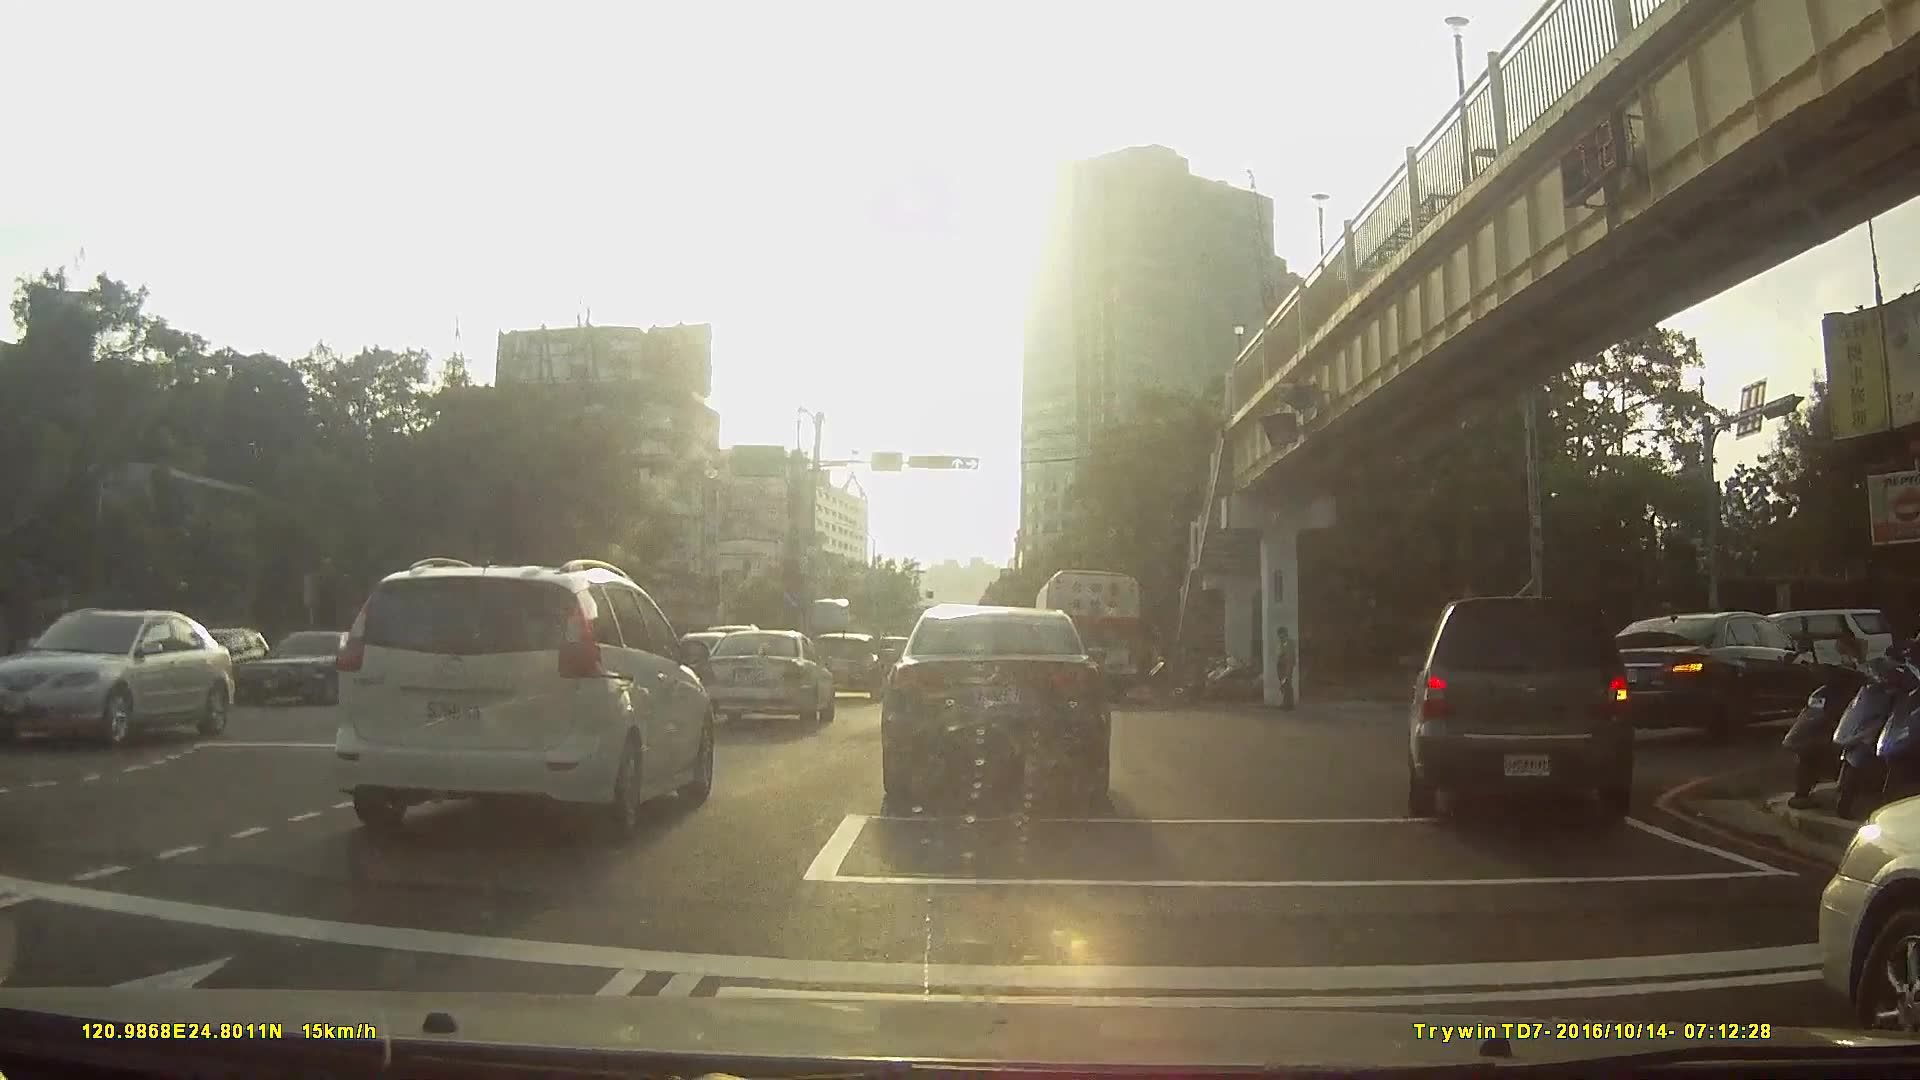pedestrian: (1270, 624, 1306, 717)
vehicle: (334, 554, 718, 841), (1396, 590, 1649, 825), (883, 598, 1110, 811), (1594, 611, 1846, 742), (6, 604, 244, 743), (219, 628, 401, 713), (1031, 566, 1142, 702), (701, 628, 838, 731), (812, 631, 888, 702)
